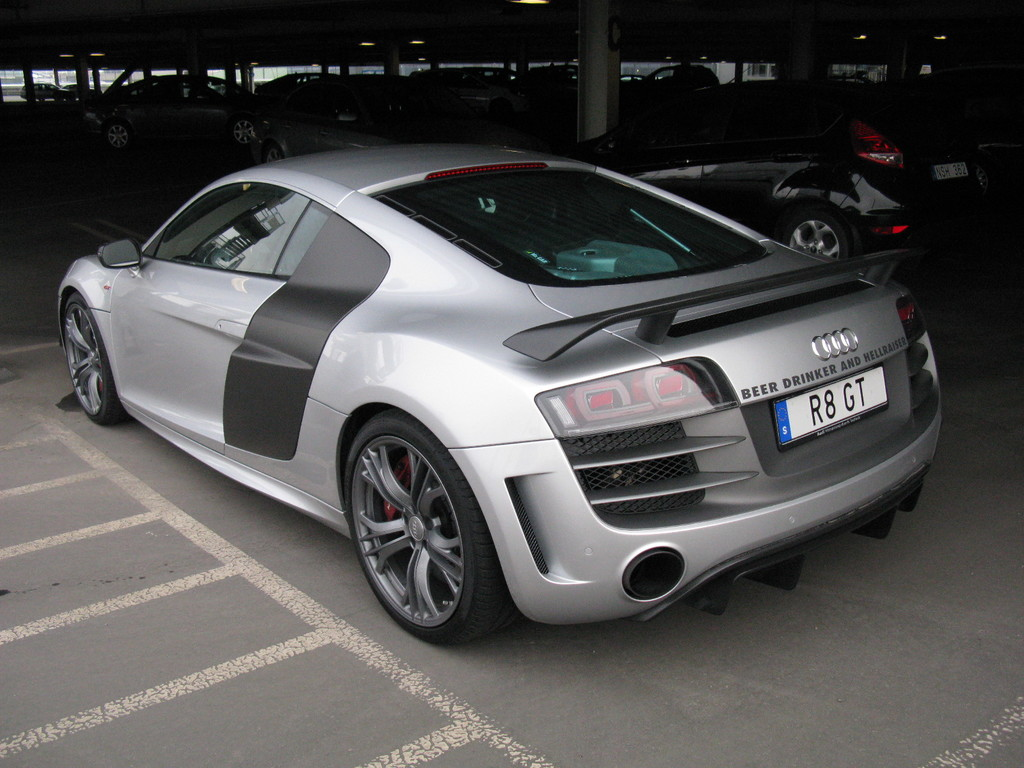license plate: (764, 407, 888, 449)
